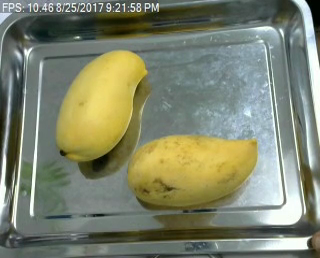Mango: (52, 49, 146, 162), (129, 134, 258, 207)
